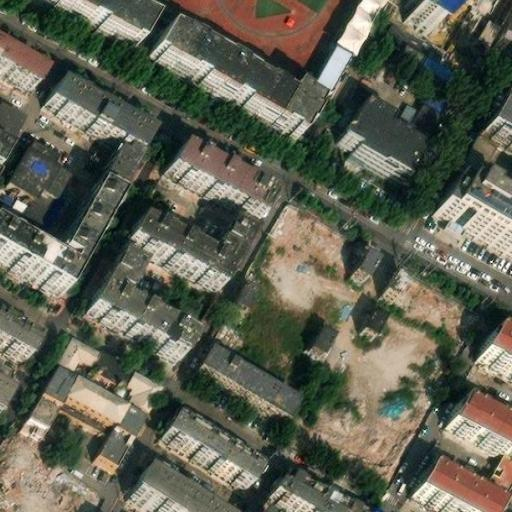building: (151, 24, 291, 124), (0, 182, 116, 291), (89, 244, 195, 351), (126, 207, 255, 287), (168, 138, 273, 216), (205, 334, 307, 410), (153, 414, 254, 490), (39, 85, 143, 158), (350, 86, 436, 167), (436, 173, 512, 251), (422, 456, 508, 512), (56, 0, 154, 43), (128, 468, 211, 512), (9, 129, 65, 193), (65, 366, 130, 419), (456, 389, 512, 447), (266, 474, 351, 512), (99, 397, 148, 460), (121, 364, 168, 410), (275, 91, 319, 139), (265, 194, 309, 242), (336, 0, 381, 46), (92, 147, 135, 195), (315, 35, 355, 82), (22, 387, 61, 432), (0, 313, 37, 356), (480, 1, 512, 47), (43, 356, 78, 397), (61, 330, 100, 366), (484, 444, 512, 494), (481, 322, 512, 366), (0, 56, 34, 94), (404, 0, 444, 29), (484, 97, 512, 137), (45, 159, 73, 190), (352, 243, 377, 274), (0, 363, 18, 406), (307, 321, 332, 350), (357, 307, 382, 333), (381, 264, 403, 291)
